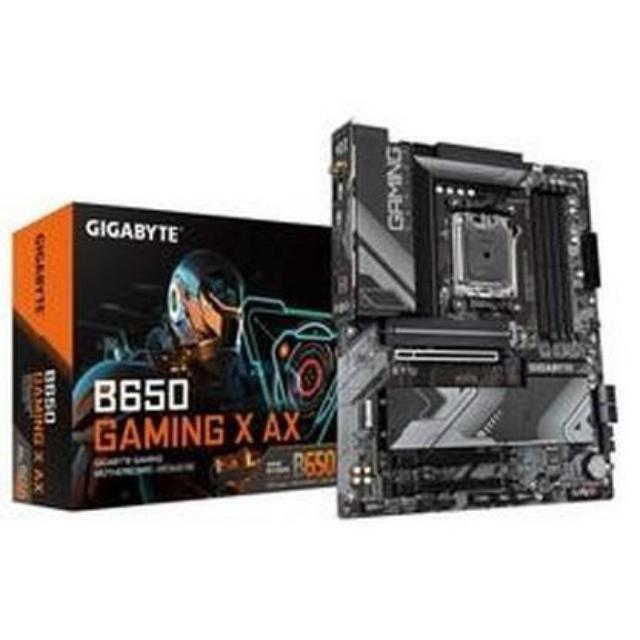Mainboard: (318, 116, 622, 516)
